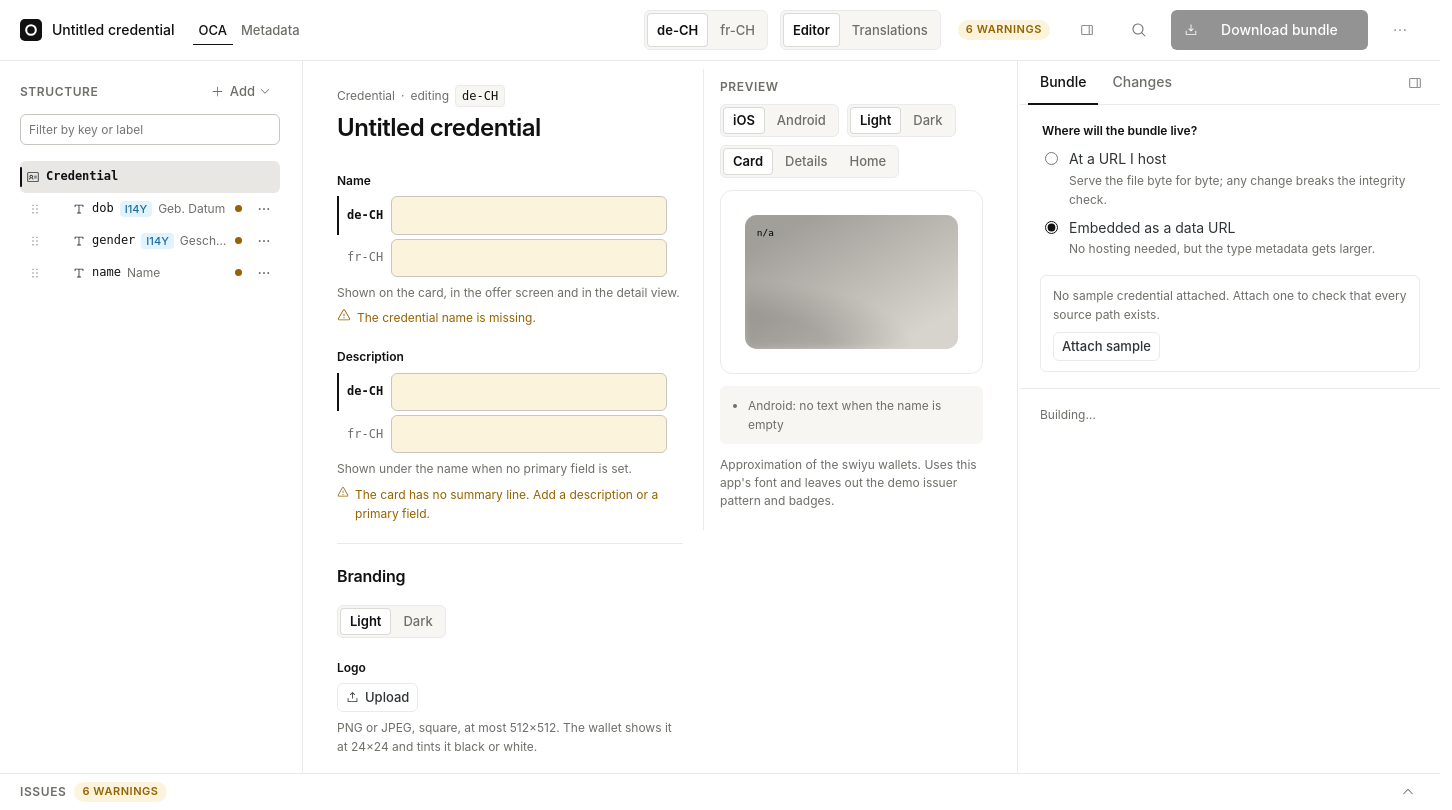
Fill missing languages from I14Y › fetches concepts whose link carries no texts, and names the ones that failed to load
Click the button named "More actions".
click(1400, 30)  # box top-left (1380, 10), bottom-right (1420, 50)
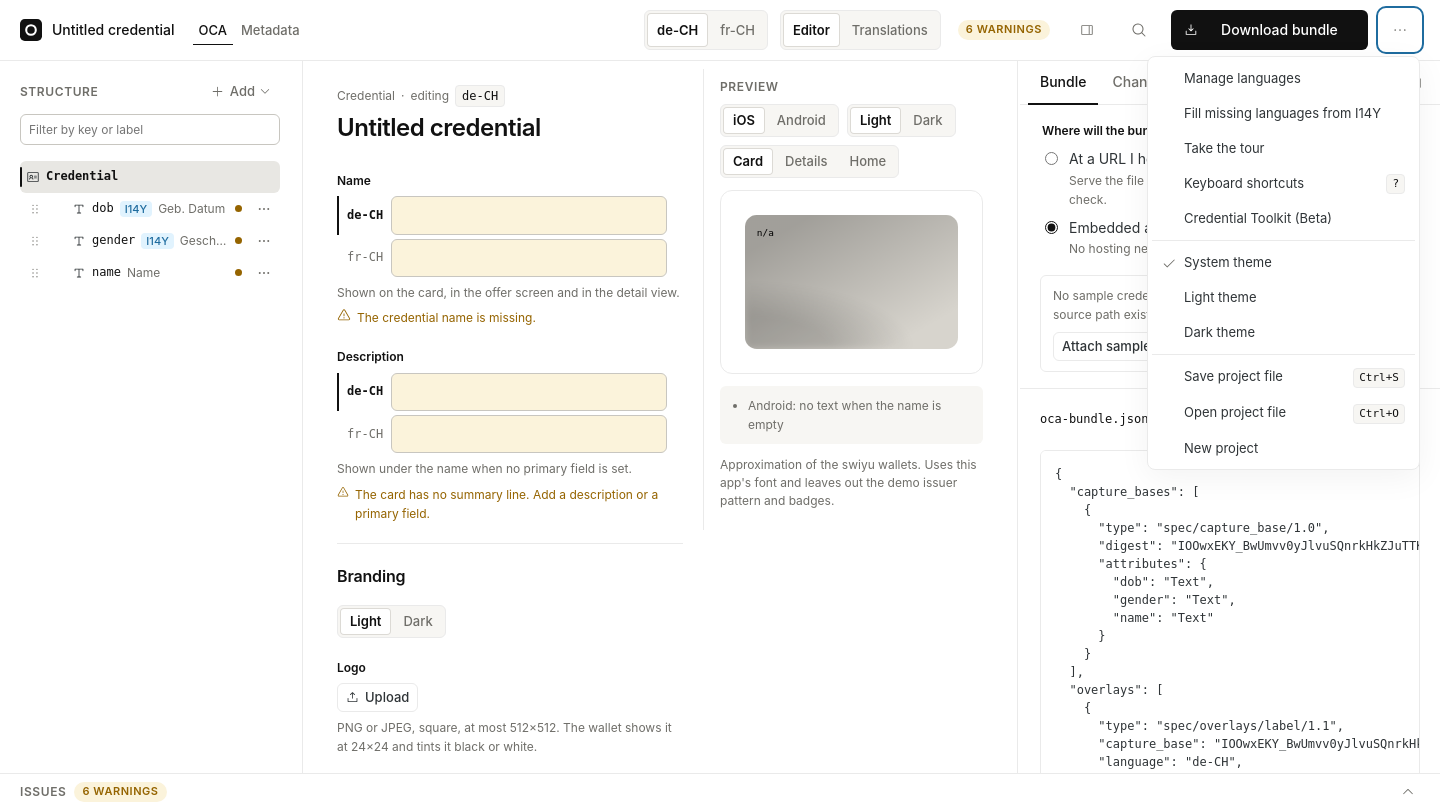
Click the menu item "Fill missing languages from I14Y".
click(1284, 113)  # box top-left (1152, 96), bottom-right (1415, 131)
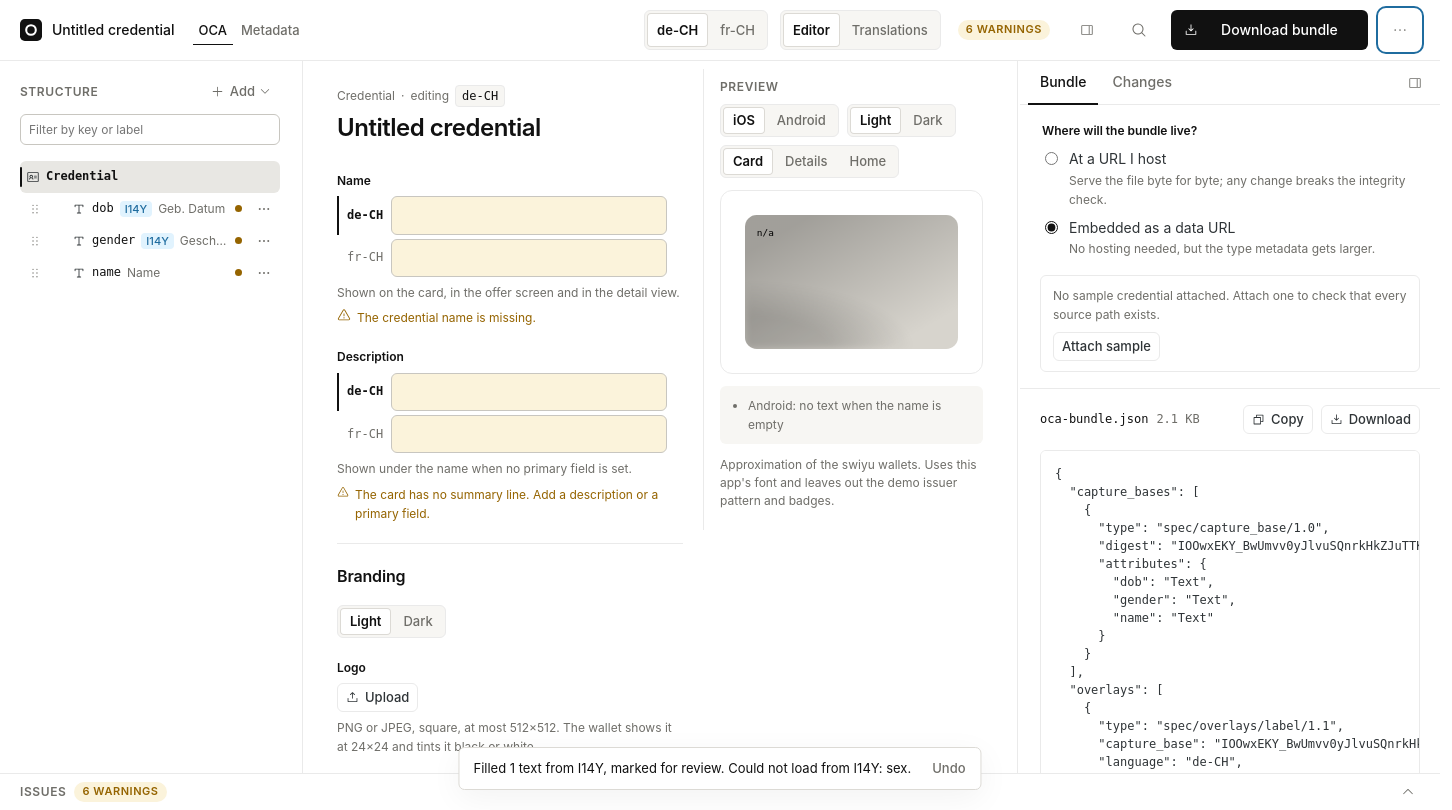
Check: the element with class "toast" shows "Filled 1 text from I14Y, marked for review. Could not load from I14Y: sex.", box top-left (474, 760), bottom-right (911, 776)
Check: the button "Undo" is shown, box top-left (923, 754), bottom-right (974, 783)
